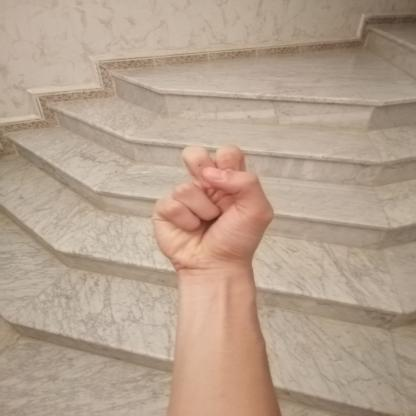QAAF: (132, 133, 295, 281)
